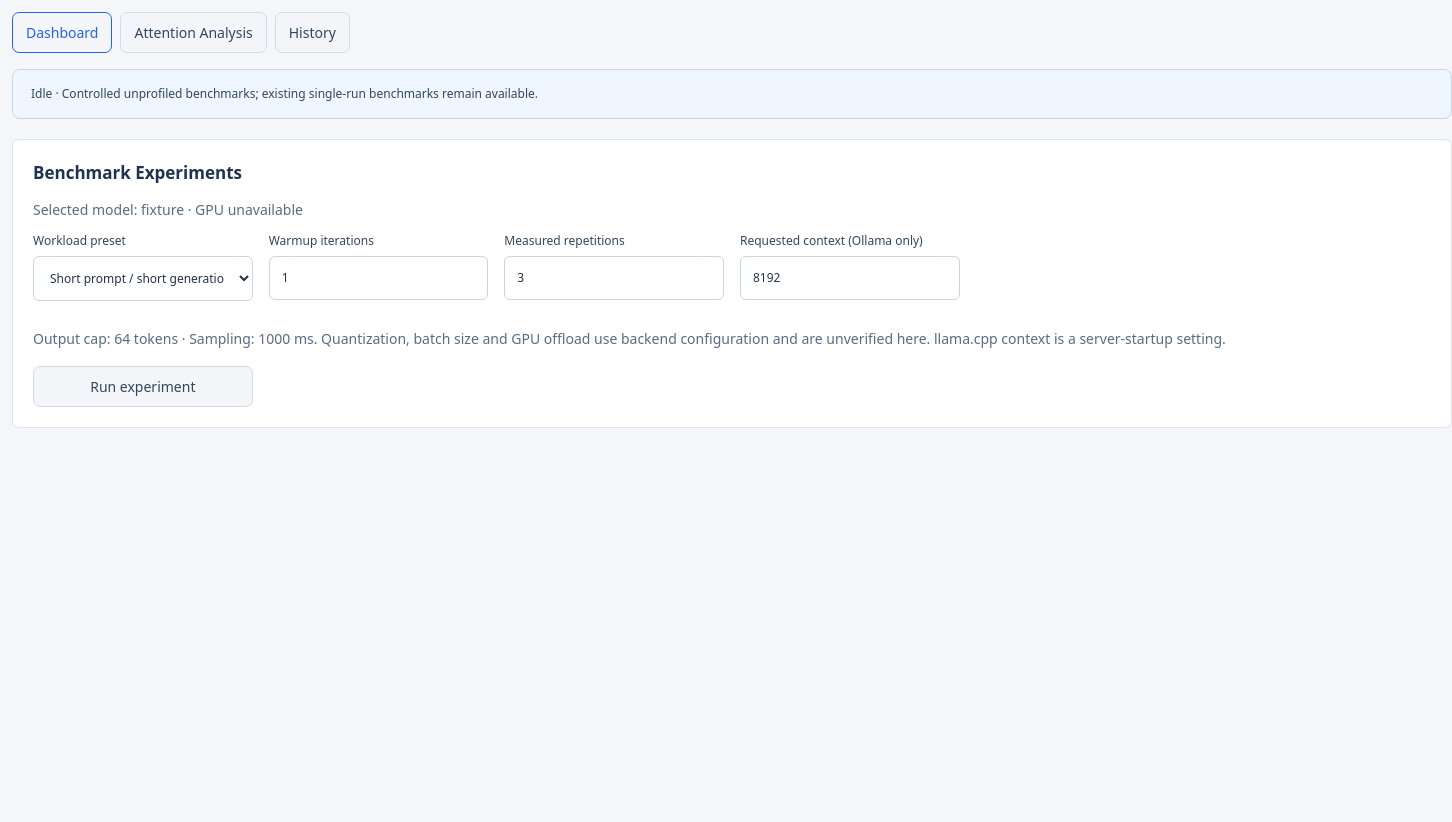
Test case: cancels an admitted trial and prevents subsequent trial admission
Step 1. Click the button "Run experiment" → coordinates (143, 387), box [33,366,253,408]
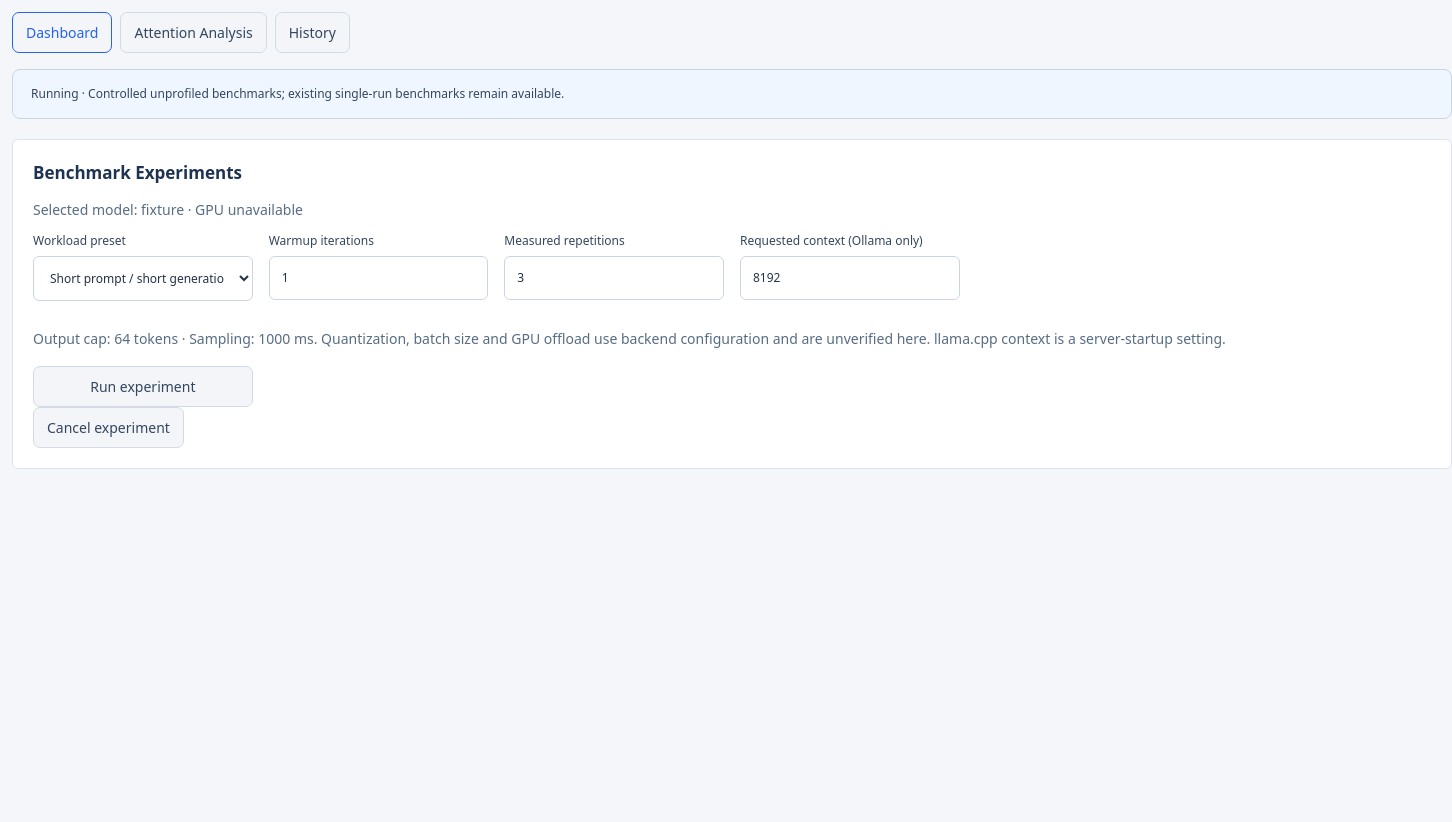
Step 2. Click the button "Cancel experiment" → coordinates (108, 428), box [33,408,184,448]
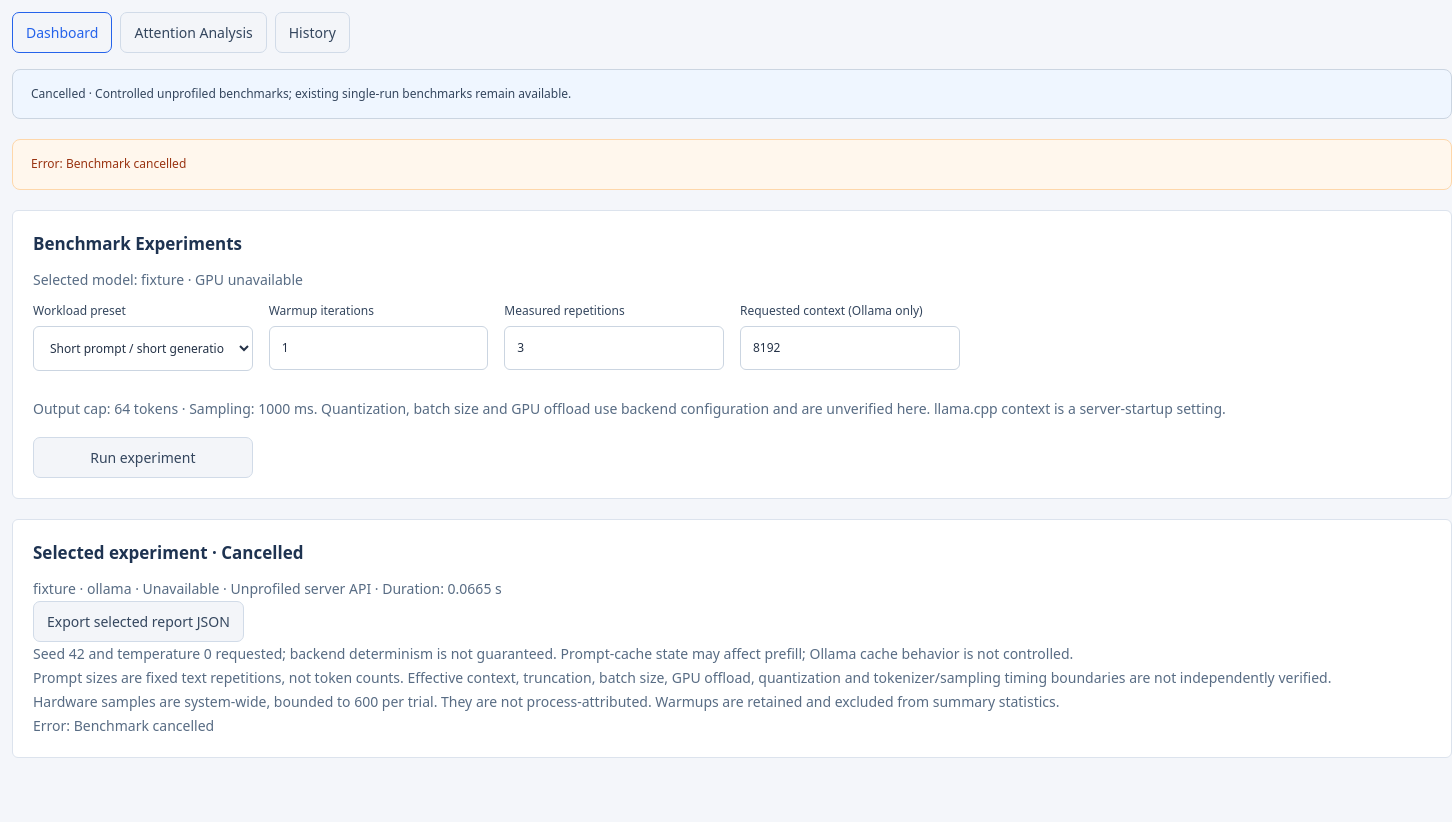
Expected: the heading "Selected experiment · Cancelled" is shown, [33,541,304,564]
